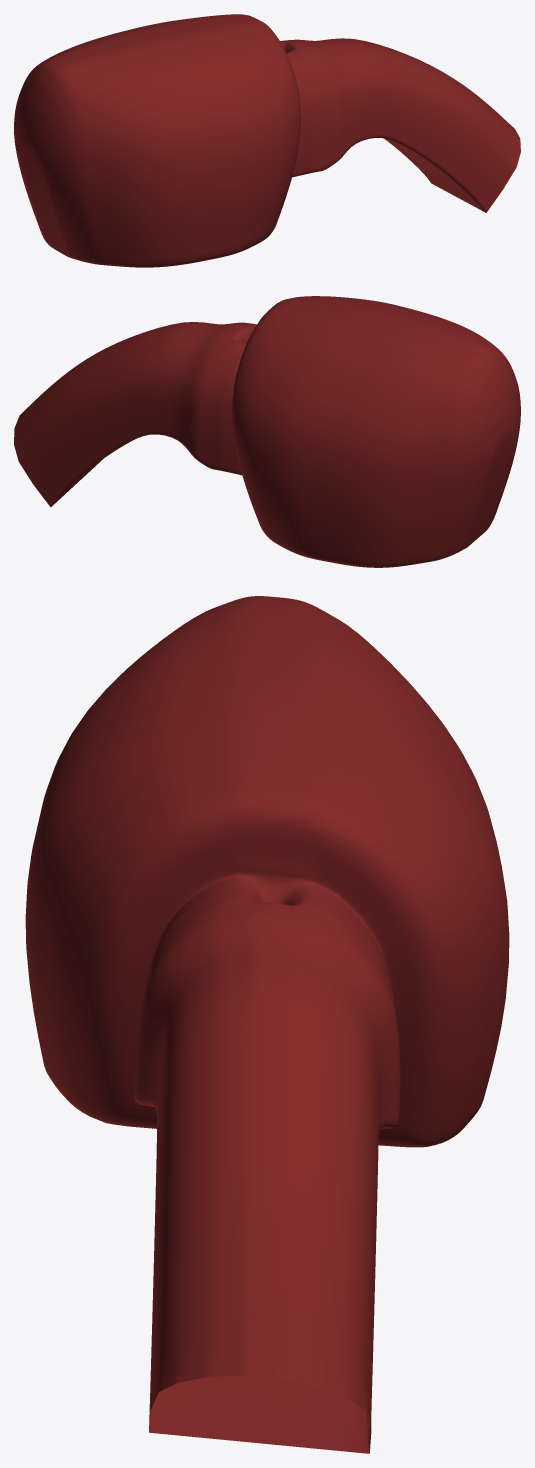
Rendered from Mouth.fbx.
3 views of the same model, one above another, from view 1: azimuth 30°, elevation 25°; view 2: azimuth 150°, elevation 25°; view 3: azimuth 270°, elevation 25° (orthographic). The views are drawn at different scales.
Visible parts, largest first — view 1: Mouth; view 2: Mouth; view 3: Mouth.
Boxes of the visible parts, left/top/right/bottom form: Mouth: left=14, top=14, right=520, bottom=267; Mouth: left=14, top=296, right=520, bottom=567; Mouth: left=25, top=596, right=509, bottom=1453.
Size of the model in its own units: 1376 by 660 by 601.
